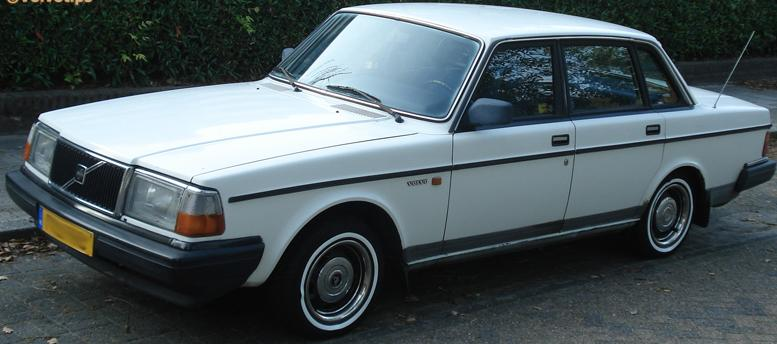front_view: (13, 102, 253, 305)
headlight: (104, 156, 238, 249)
side_glass: (451, 32, 698, 139)
